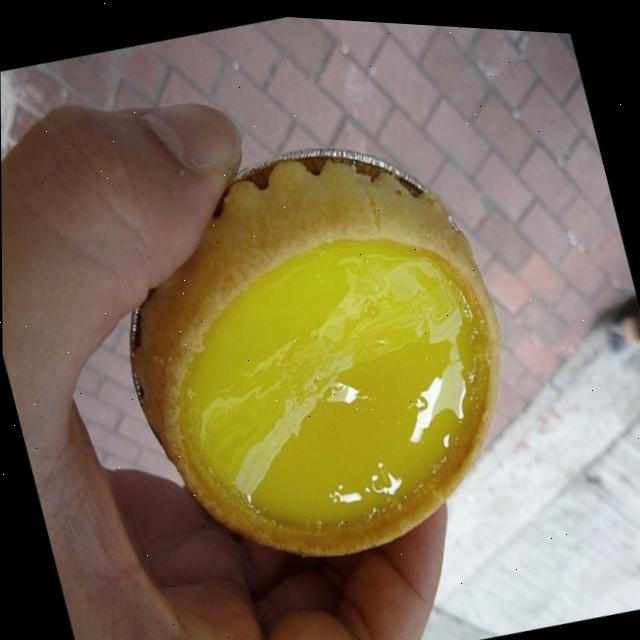炸货点心: (79, 105, 547, 610)
蛋糕甜品: (79, 105, 547, 610)
